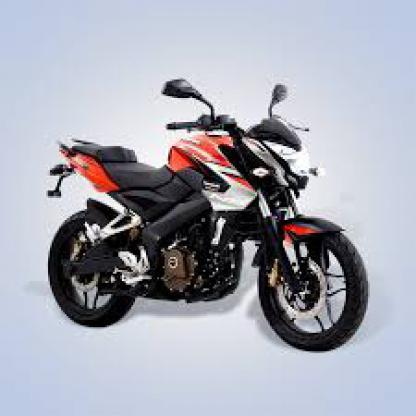Motorcycle: (35, 70, 378, 355)
